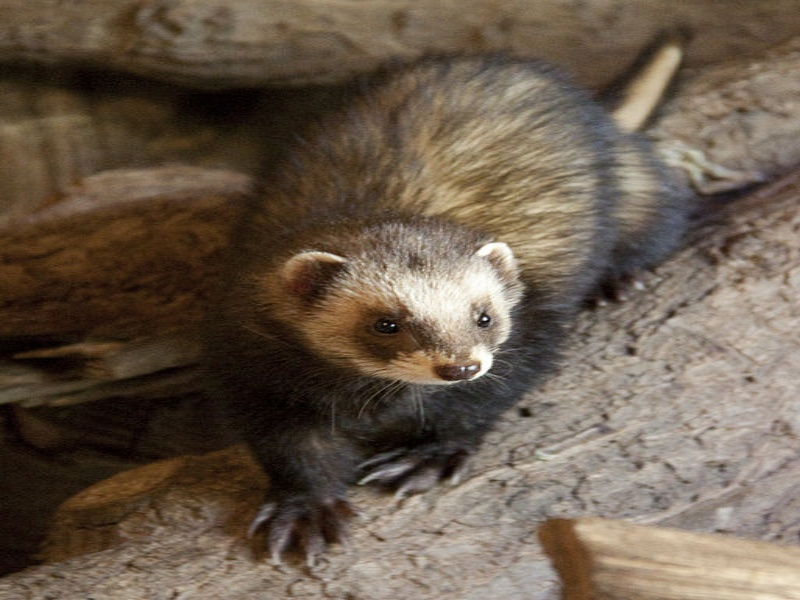minkish: (222, 49, 690, 570)
